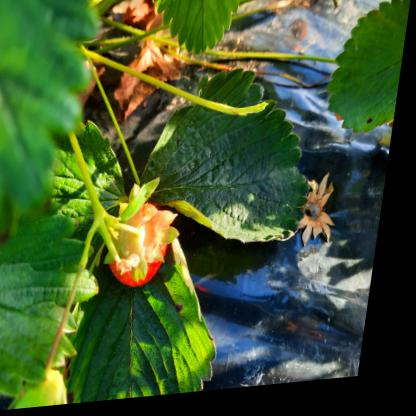ripe: (111, 198, 186, 290)
